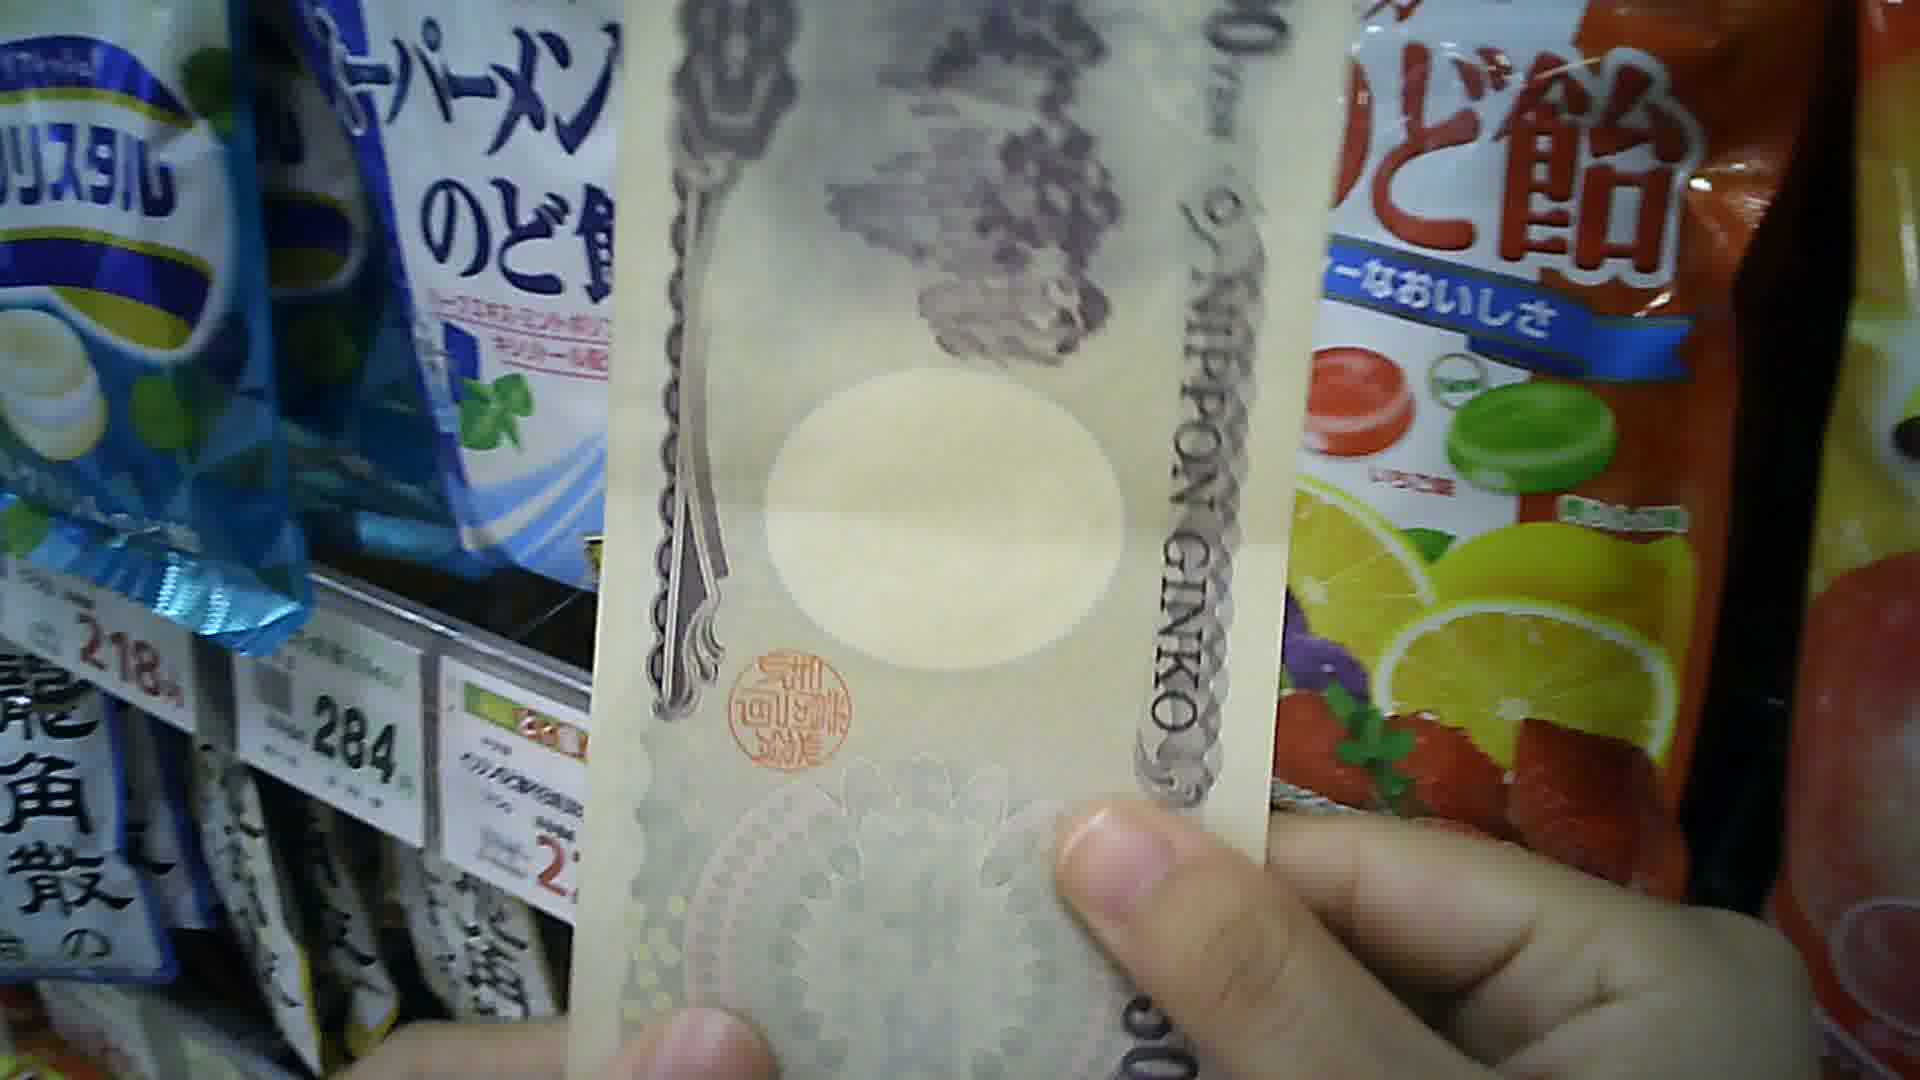5,000 Yen: (575, 1, 1361, 1079)
